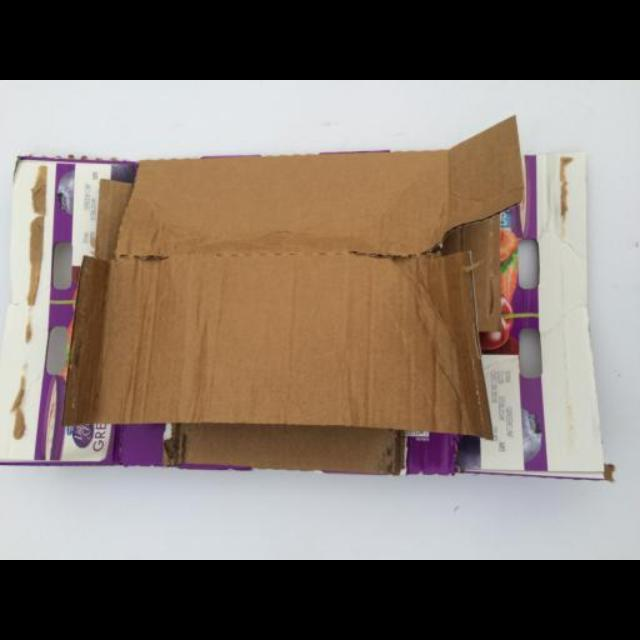papelão: (5, 154, 612, 482)
